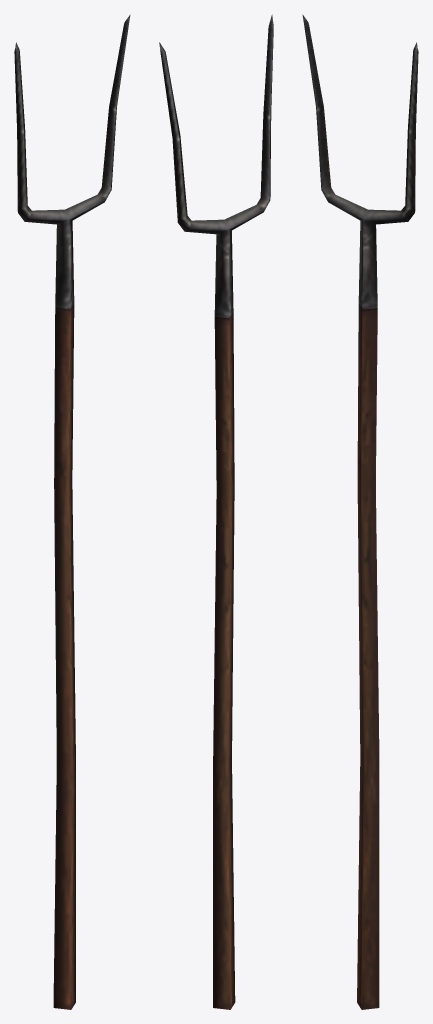
The model's file is Polearm01.FBX.
The picture shows the model from 3 angles, left to right: view 1: azimuth 30°, elevation 25°; view 2: azimuth 210°, elevation 25°; view 3: azimuth 330°, elevation 25°; orthographic projection.
Visible parts, largest first — view 1: Polearm01; view 2: Polearm01; view 3: Polearm01.
Part boxes in pixels (x1,y1,x2,y2): Polearm01: [14, 14, 130, 1009]; Polearm01: [159, 14, 273, 1009]; Polearm01: [302, 14, 418, 1009].
Size of the model in its own units: 23.22 by 190 by 5.4.
